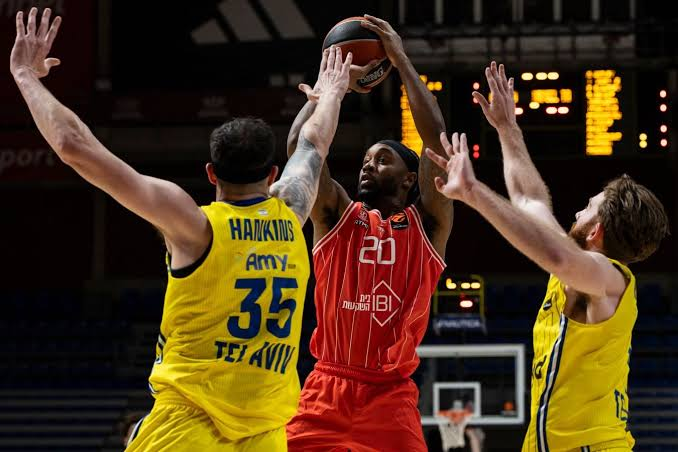ball: (322, 16, 398, 92)
player: (8, 6, 354, 445), (426, 62, 670, 446), (287, 16, 456, 447)
